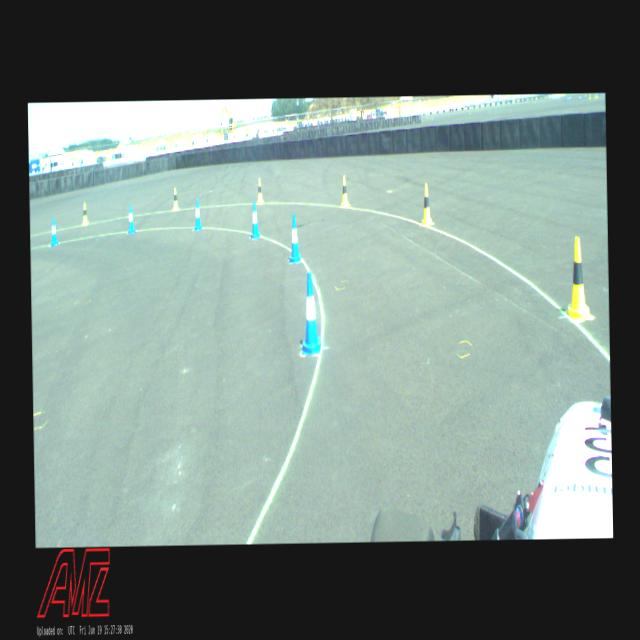blue_cone: (301, 272, 321, 353), (288, 214, 300, 262), (250, 200, 259, 238), (194, 198, 202, 229), (50, 217, 58, 246), (127, 204, 134, 233), (578, 94, 580, 100)
yellow_cone: (564, 237, 592, 319), (421, 183, 433, 224), (340, 176, 350, 207), (256, 178, 263, 204), (81, 201, 88, 224), (172, 188, 178, 210)
